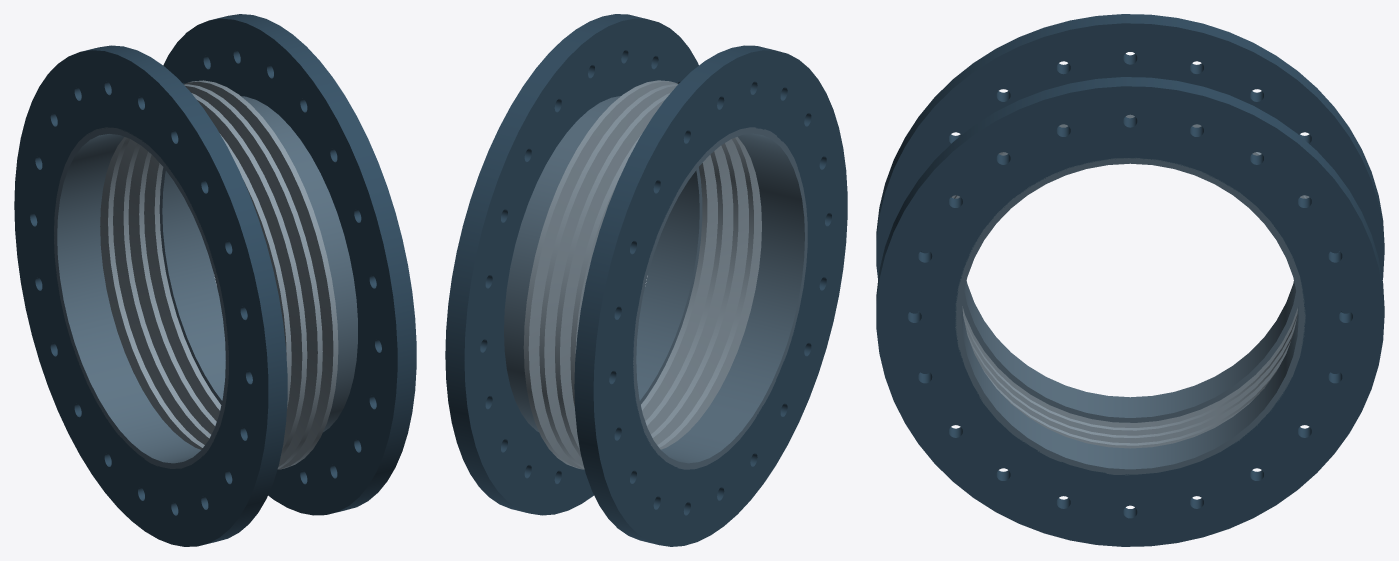
File: flan-dn800-L400-D820-f.glb
3 views of the same model, side by side, from view 1: azimuth 30°, elevation 25°; view 2: azimuth 150°, elevation 25°; view 3: azimuth 270°, elevation 25° (orthographic).
Visible parts, largest first — view 1: homut_flanec_1, homut_flanec_2, prokladka_silfon_1, patrubok_1, patrubok_2; view 2: homut_flanec_1, homut_flanec_2, prokladka_silfon_1, patrubok_1, patrubok_2; view 3: homut_flanec_2, homut_flanec_1, patrubok_2, patrubok_1, prokladka_silfon_1.
Boxes of the visible parts, left/top/right/bottom form: homut_flanec_1: left=14, top=45, right=287, bottom=546; homut_flanec_2: left=163, top=14, right=416, bottom=515; prokladka_silfon_1: left=100, top=80, right=338, bottom=469; patrubok_1: left=54, top=127, right=228, bottom=468; patrubok_2: left=159, top=96, right=357, bottom=432; homut_flanec_1: left=574, top=45, right=847, bottom=546; homut_flanec_2: left=445, top=14, right=698, bottom=515; prokladka_silfon_1: left=523, top=80, right=761, bottom=469; patrubok_1: left=633, top=127, right=807, bottom=469; patrubok_2: left=504, top=96, right=702, bottom=431; homut_flanec_2: left=876, top=77, right=1384, bottom=546; homut_flanec_1: left=876, top=14, right=1384, bottom=373; patrubok_2: left=955, top=158, right=1305, bottom=475; patrubok_1: left=962, top=281, right=1298, bottom=422; prokladka_silfon_1: left=951, top=114, right=1309, bottom=448.
Bounding box in the file's own units: 400 × 1189 × 1188.
